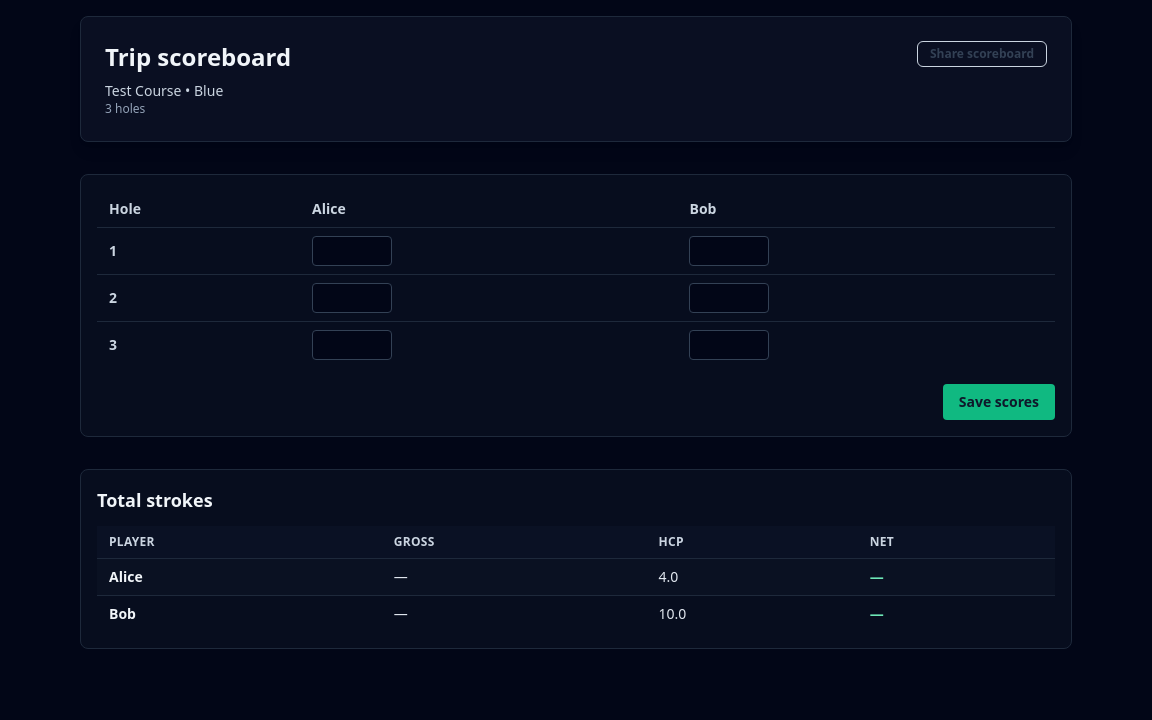
Test: TripScoreboardPage › creates a share link and copies it
The width and height of the screenshot is (1152, 720).
Step 1. Click the button "Share scoreboard" → (982, 54), box x1=917 y1=41 x2=1047 y2=67
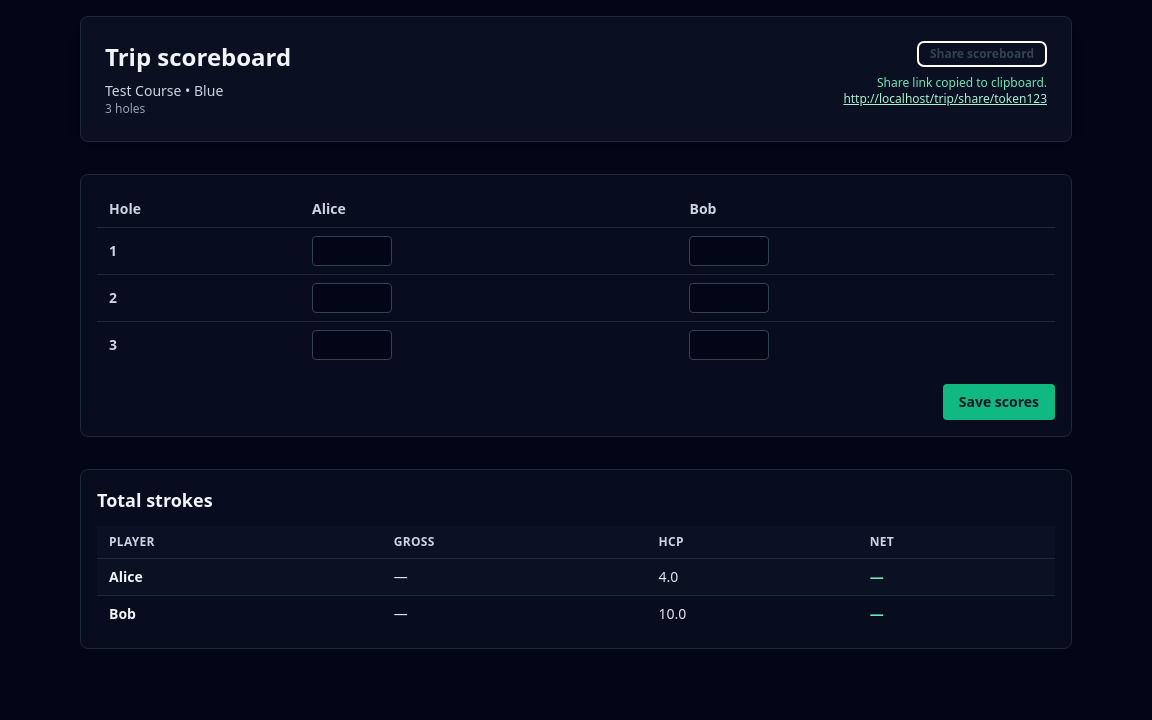
Result: the text "Share link copied to clipboard" is shown at x1=877 y1=74 x2=1047 y2=91
